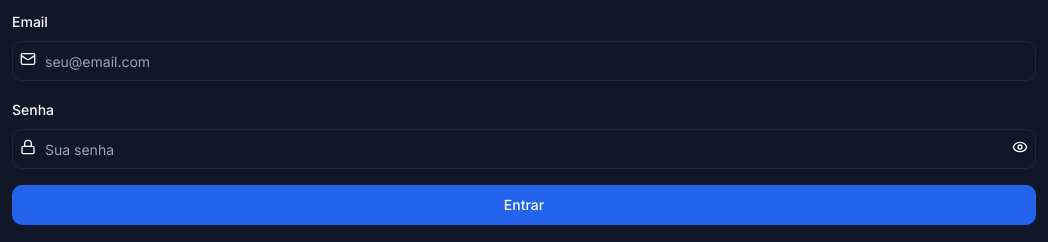
Scenario: LoginForm Component › Submissão do Formulário › deve mostrar estado de carregamento durante submissão
Type "test@example.com" into the field labelled "Email" at (524, 61), box [12,41,1036,81]
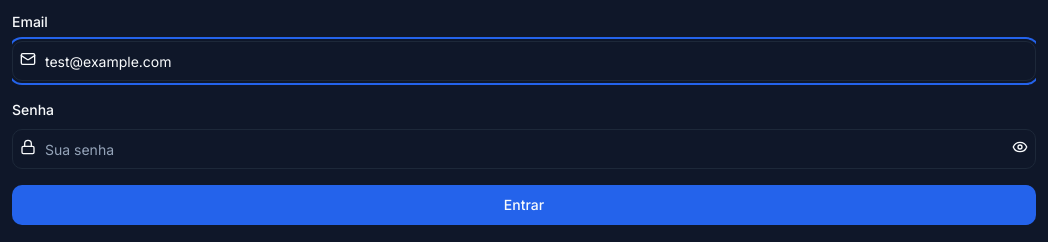
Type "password123" into the password field labelled "Senha" at (524, 149), box [12,129,1036,169]
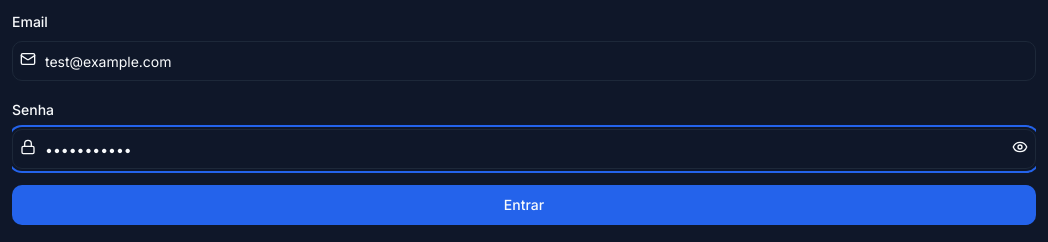
Click the button "Entrar" at (524, 205), box [12,185,1036,225]
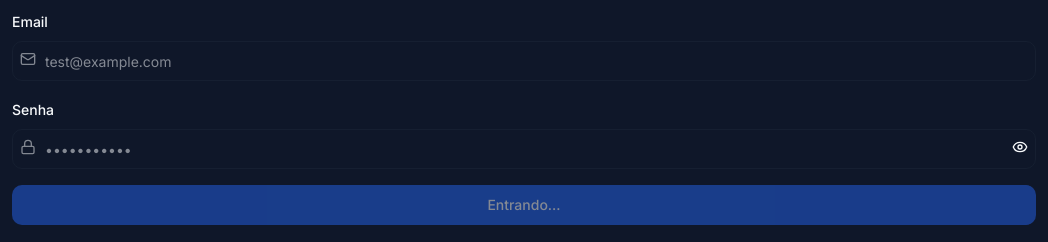
Expected: the field labelled "Email" is disabled, [12,41,1036,81]
Expected: the password field labelled "Senha" is disabled, [12,129,1036,169]
Expected: the button "Entrando..." is disabled, [12,185,1036,225]
